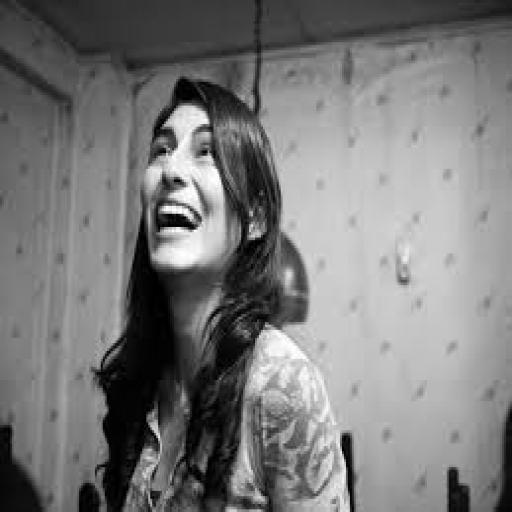laughing: (81, 69, 356, 509)
